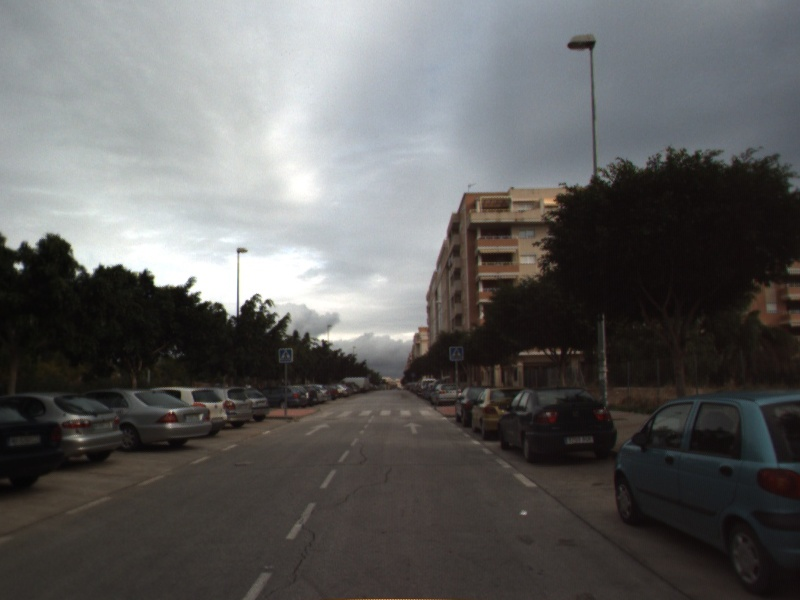STRAIGHT: (303, 421, 332, 437), (401, 420, 425, 436)
